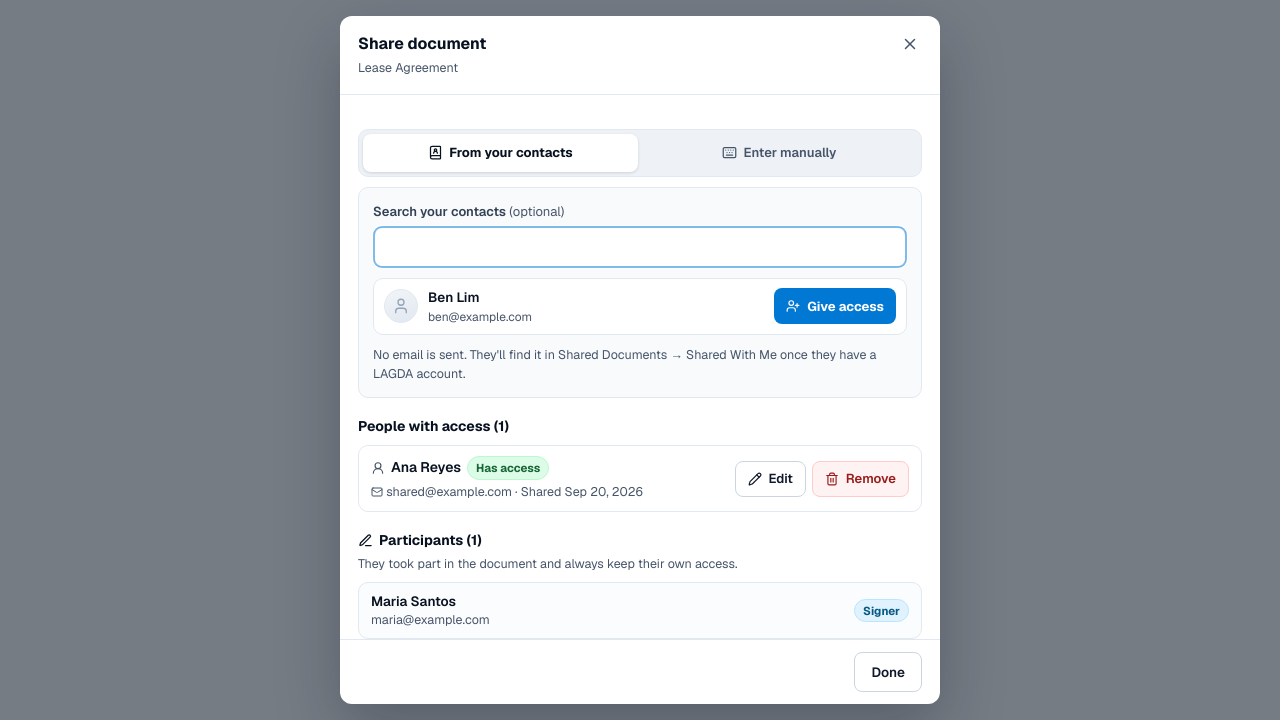
it: ShareDocumentDialog › adds a contact who has no access yet in one click, leaving out anyone who already has it
Click the button with aria-label "Give Ben Lim access": (835, 306) 774,288 -> 896,324
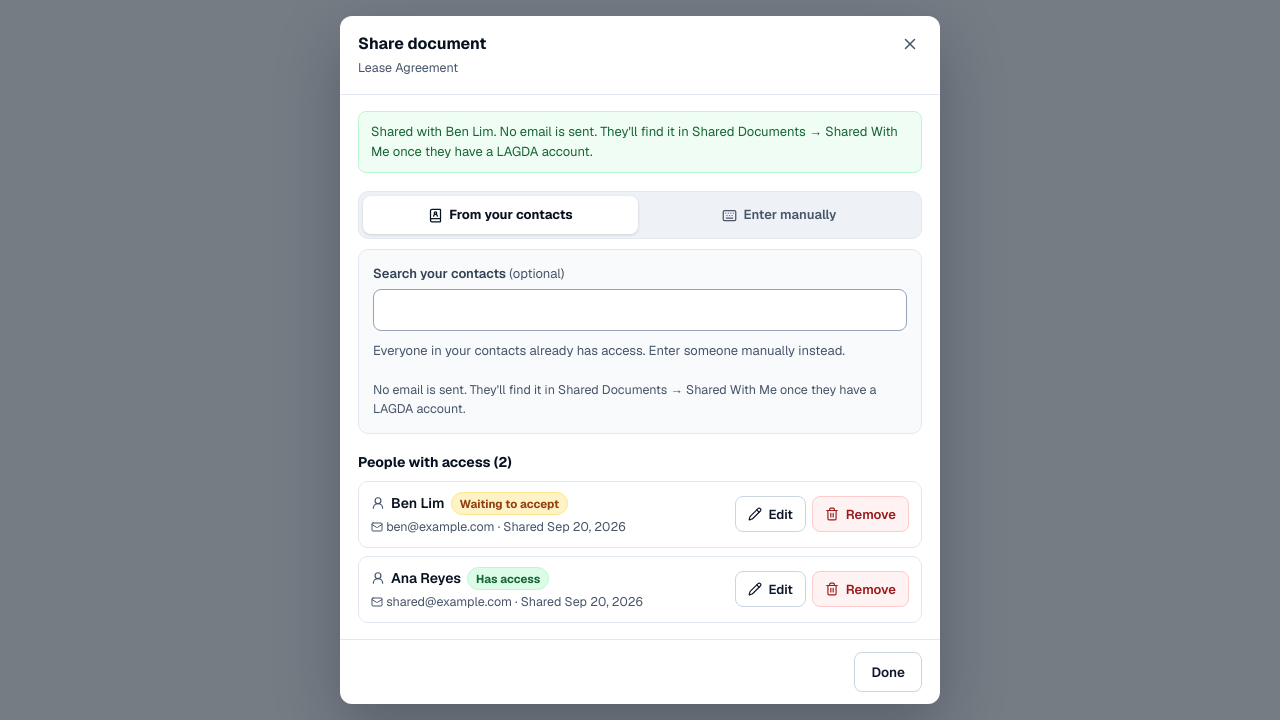
Expected: the text "Shared with Ben Lim." is shown, 371,123 -> 898,160
